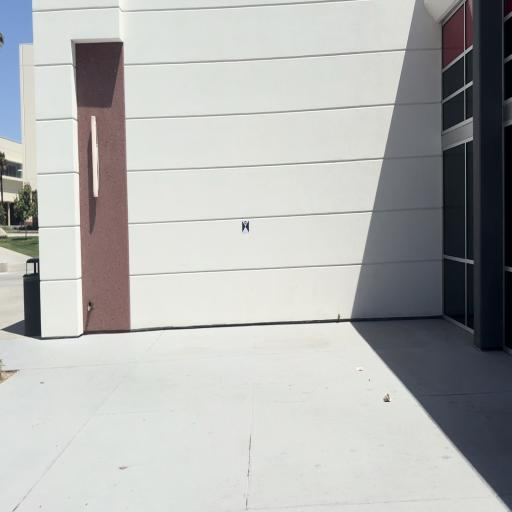target0: (242, 220, 249, 234)
